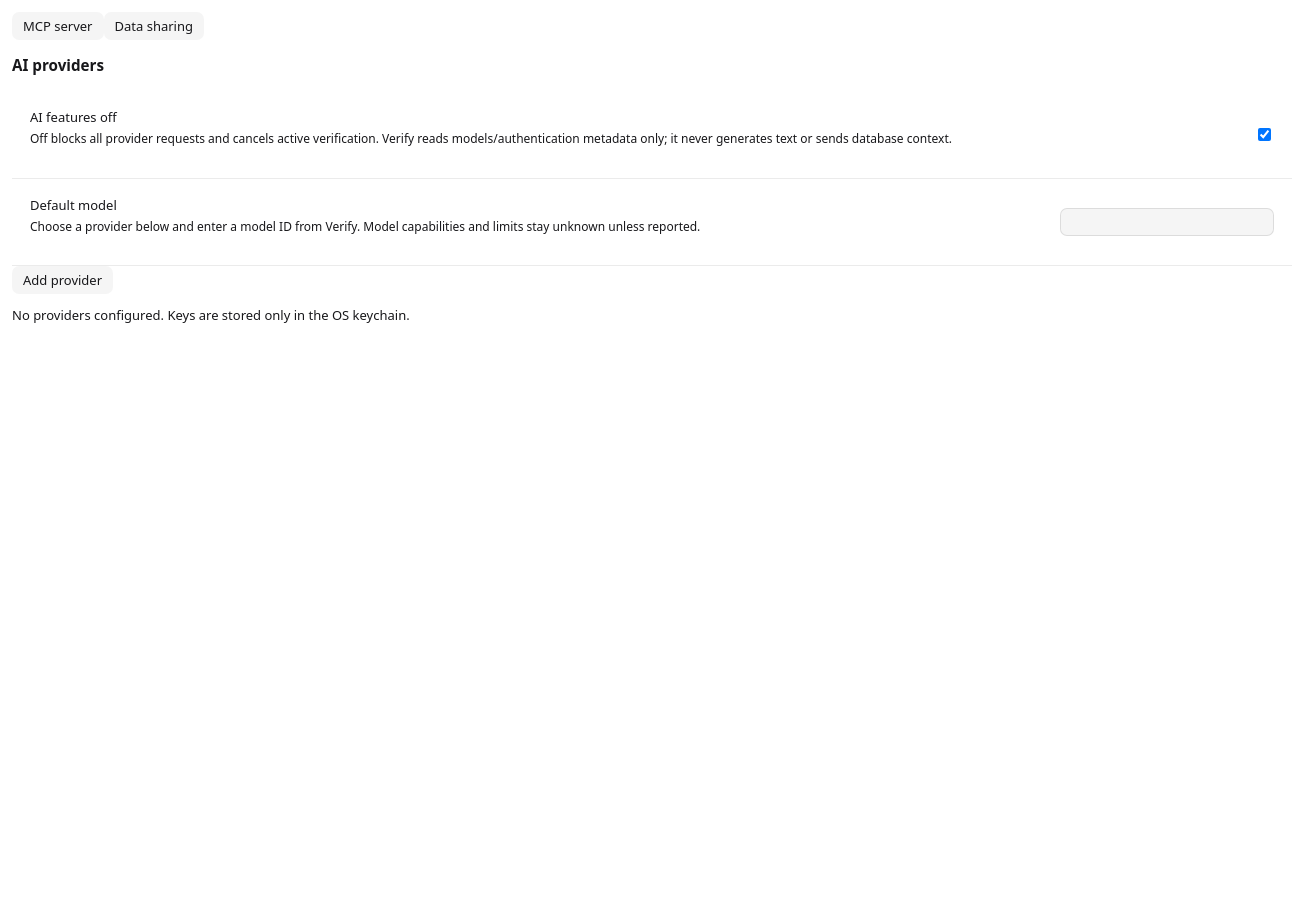
Scenario: supports keyless local servers and never probes on mount
The width and height of the screenshot is (1304, 912).
Click the button "Add provider" at (62, 280), box [12,266,113,294]
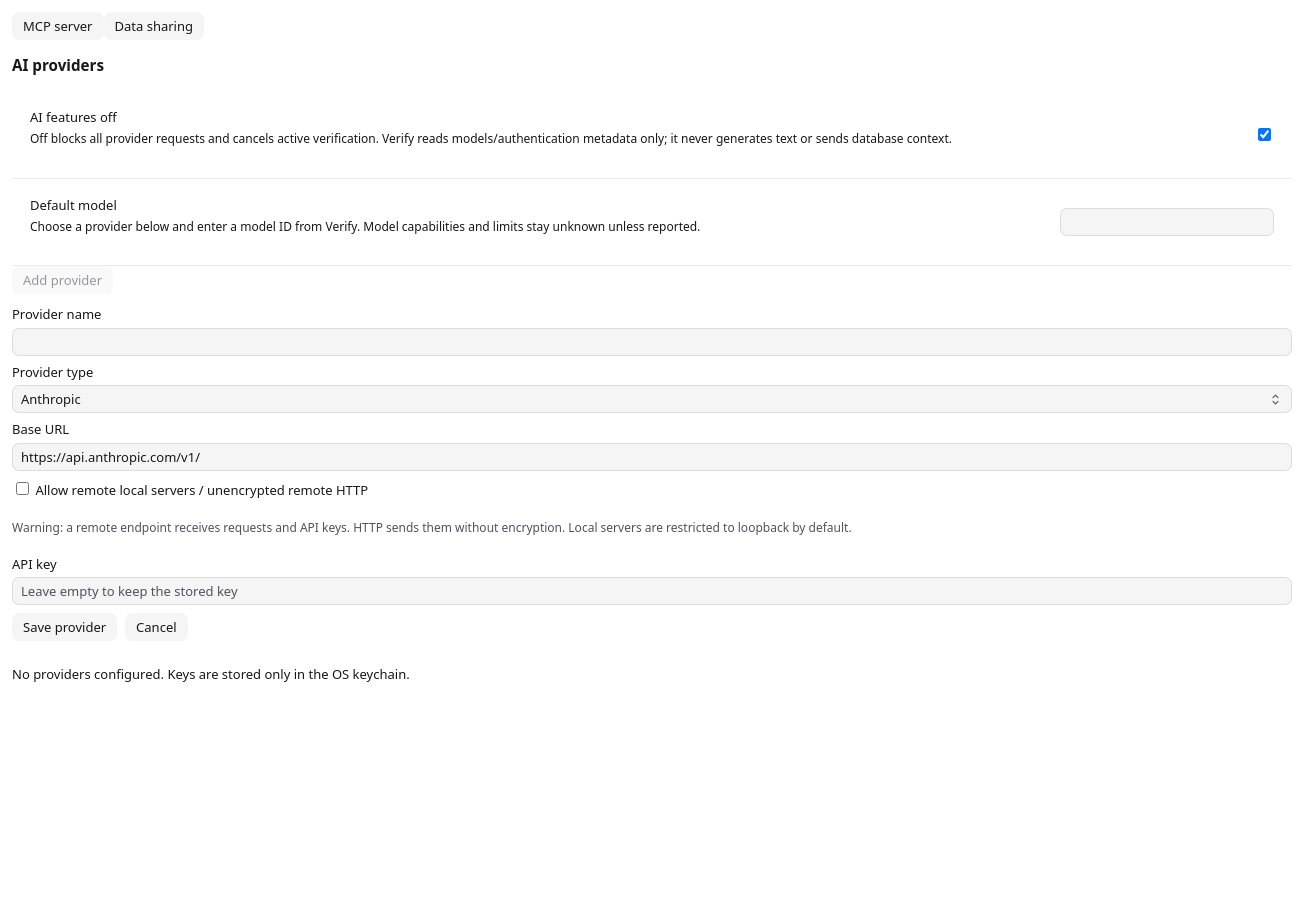
Type "My provider" into the field labelled "Provider name" at (652, 342), box [13,329,1291,355]
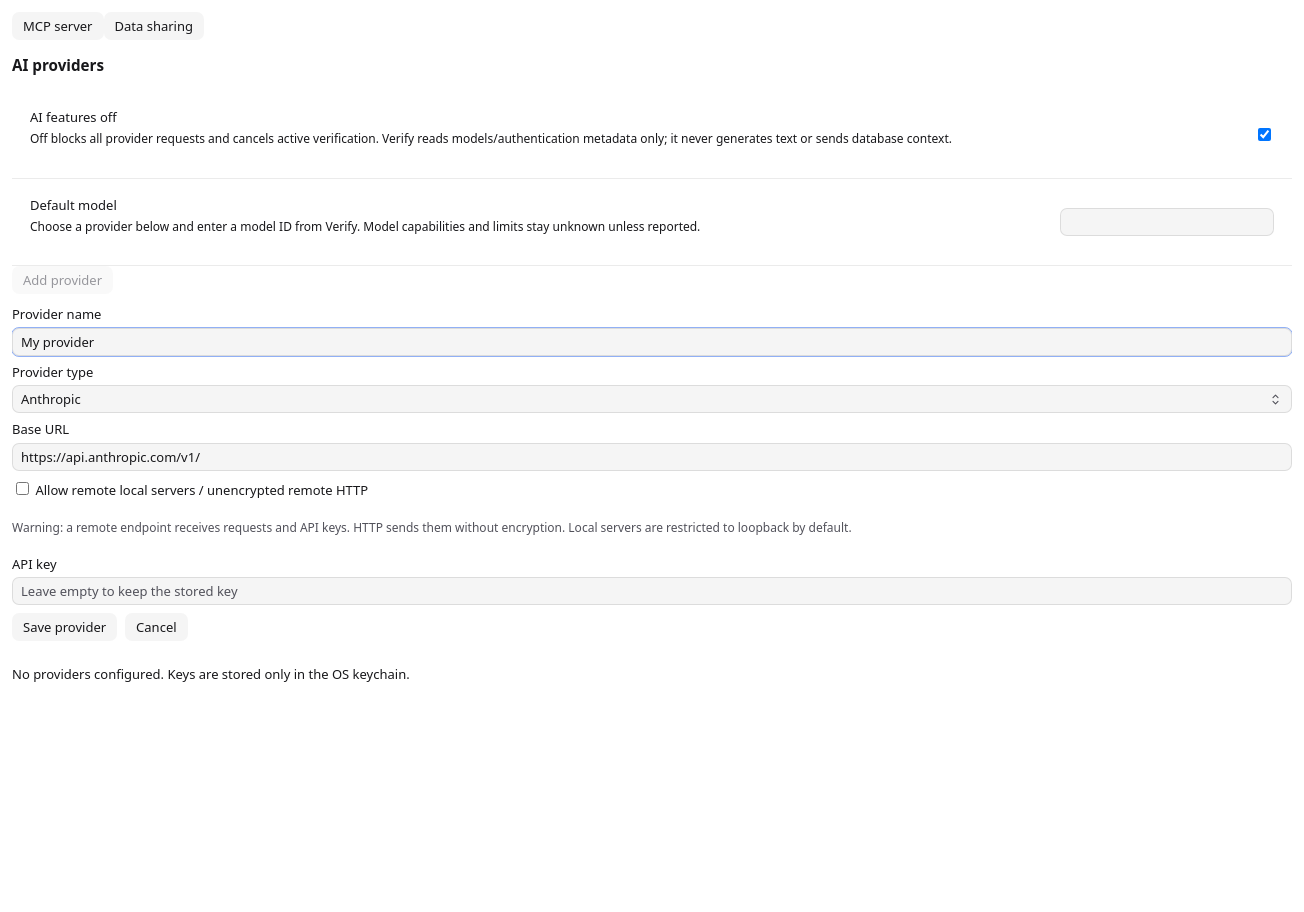
Select "Ollama" in the dropdown labelled "Provider type" at (652, 400), box [13,386,1291,412]
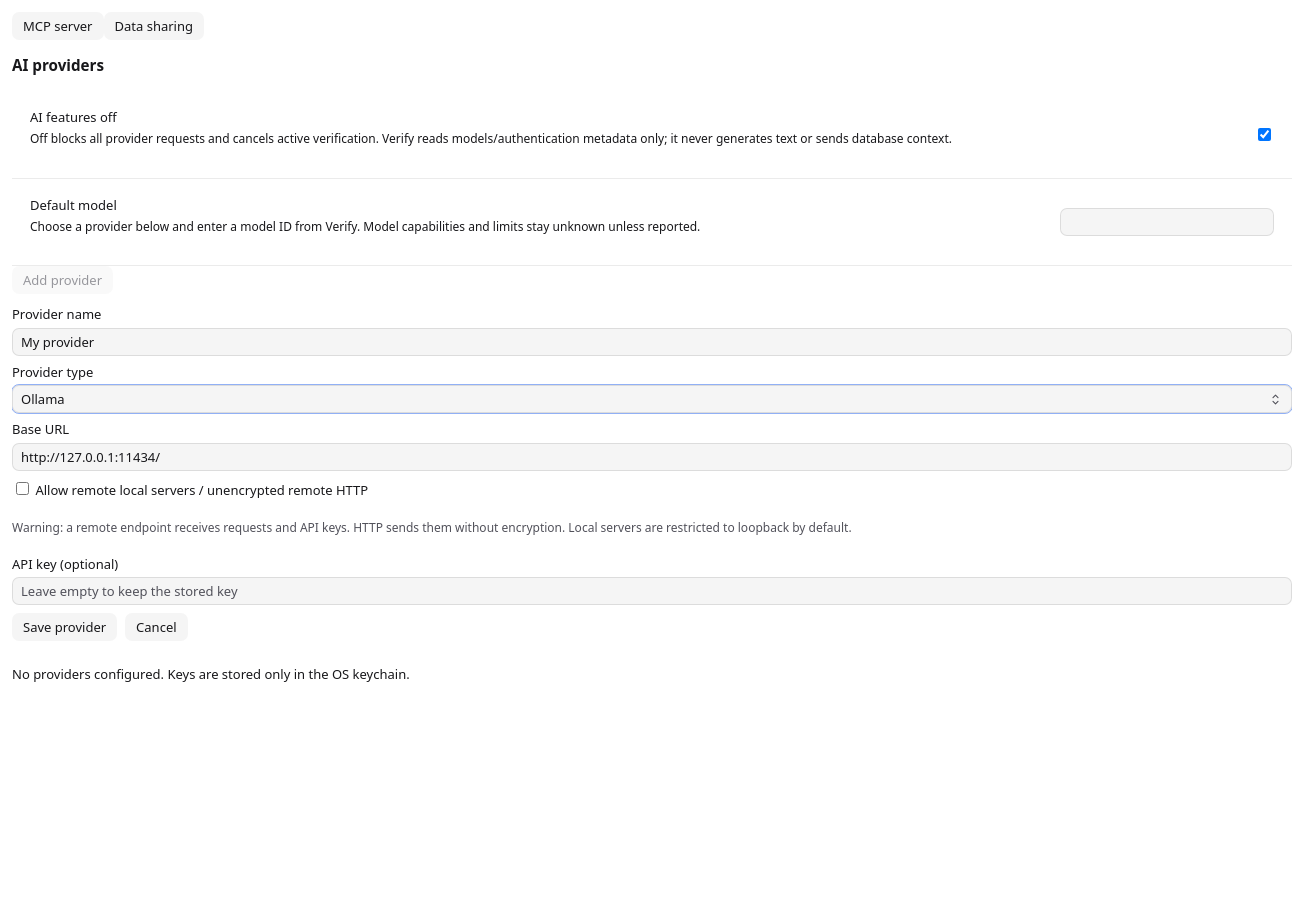
Click the button "Save provider" at (65, 627), box [12,613,117,641]
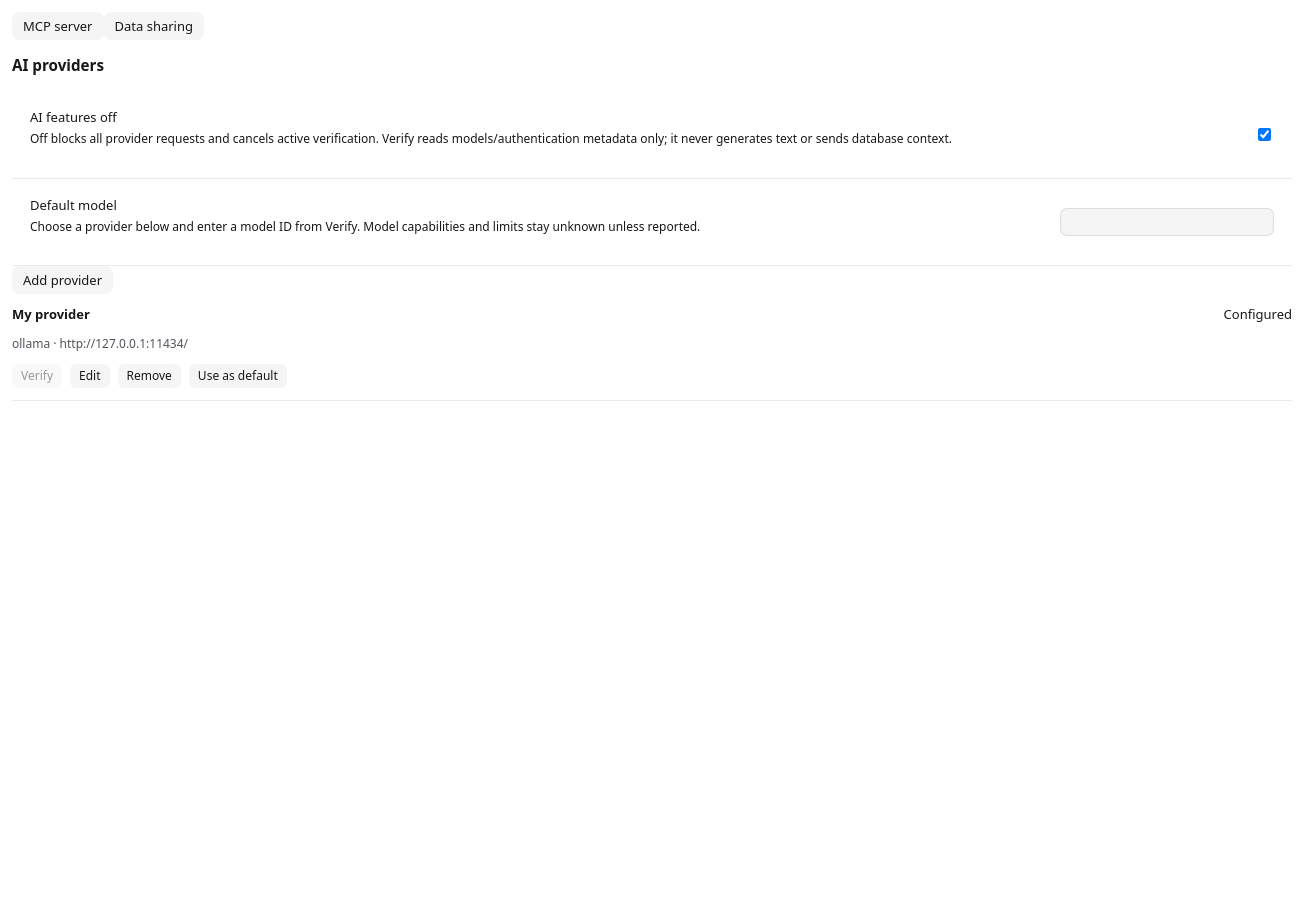
Expected: the element "My provider" is shown, [12,294,1292,401]
